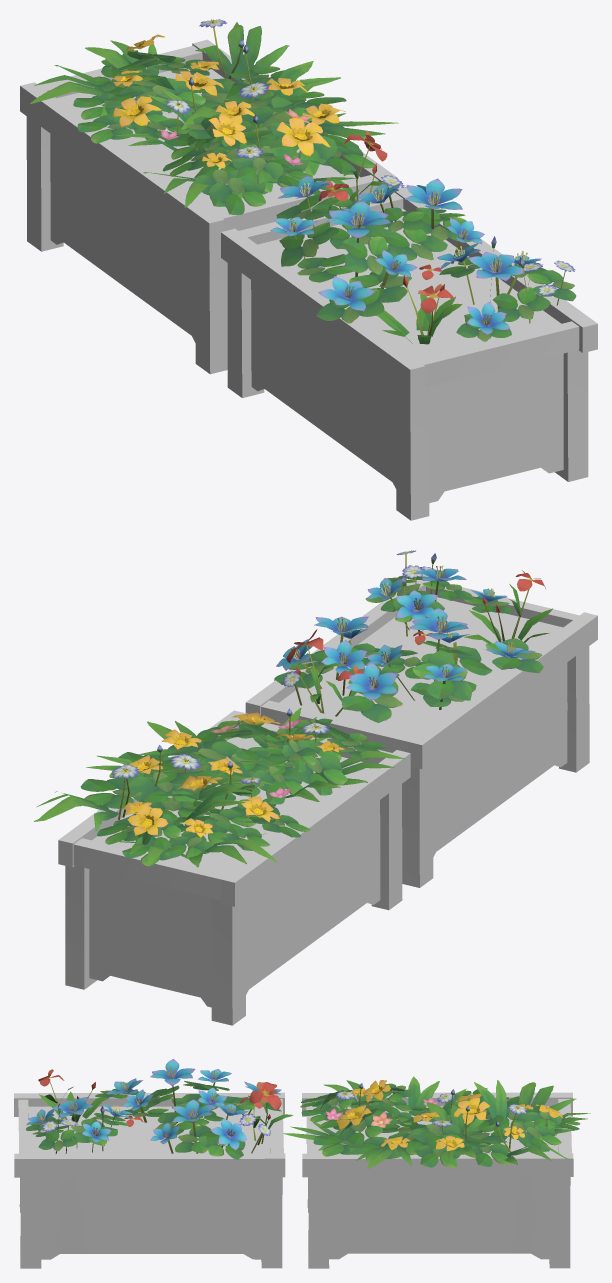
Rendered from Parterre.fbx.
The picture shows the model from 3 angles, top to bottom: view 1: azimuth 30°, elevation 25°; view 2: azimuth 150°, elevation 25°; view 3: azimuth 270°, elevation 25°; orthographic projection. The views are drawn at different scales.
Visible parts, largest first — view 1: Mesh_0107.015; view 2: Mesh_0107.015; view 3: Mesh_0107.015.
Part boxes in pixels (left/top/right/bottom): Mesh_0107.015: left=20, top=18, right=597, bottom=520; Mesh_0107.015: left=34, top=550, right=597, bottom=1025; Mesh_0107.015: left=14, top=1059, right=590, bottom=1268.
Size of the model in its own units: 116 by 87.8 by 275.
